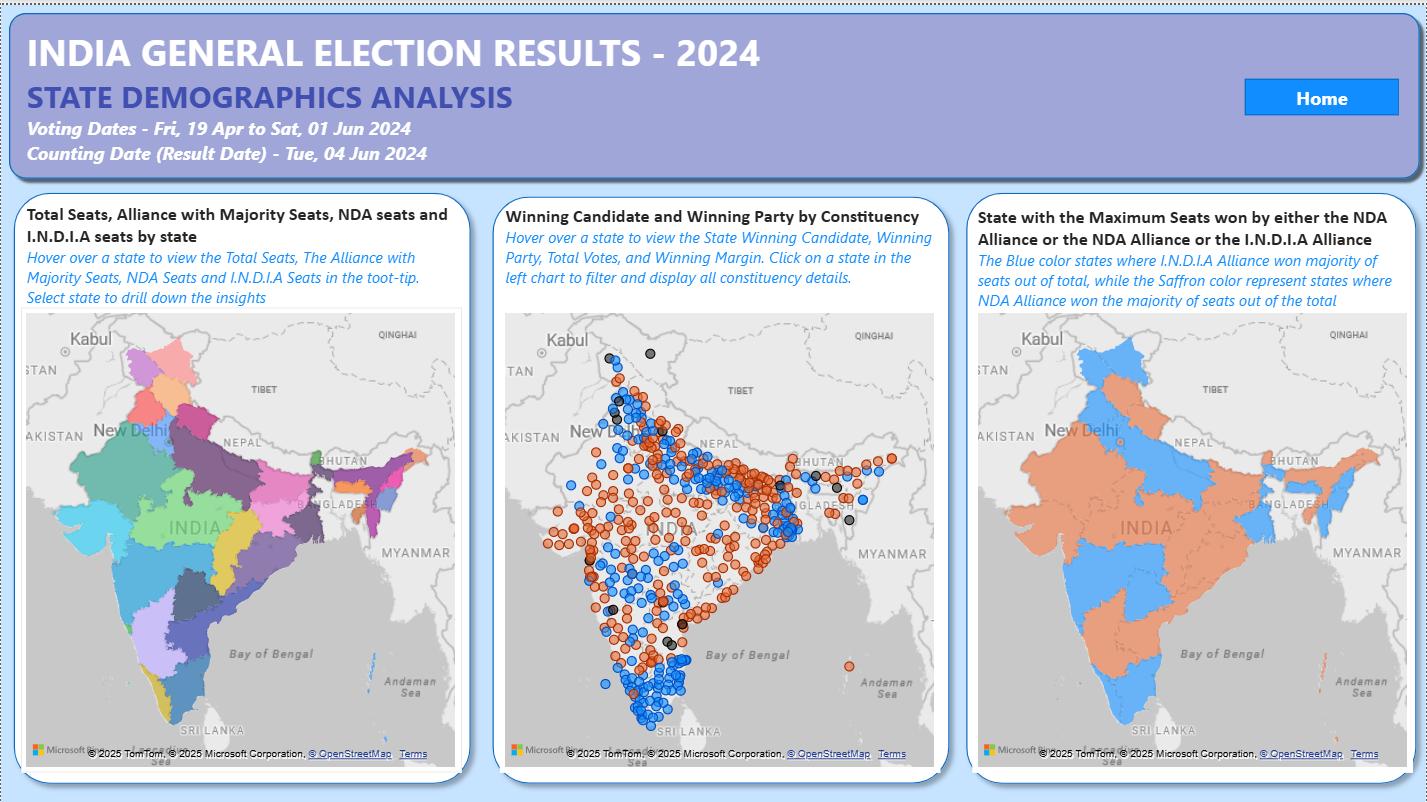

The dashboard page shown, as its layout file describes it:
{"tool":"powerbi","page":{"name":"STATE DEMOGRAPHICS ANALYSIS","canvas":[1250,700],"ordinal":2},"visuals":[{"type":"shape","box":[0,0,1250.7,159.3],"z":0},{"type":"textbox","box":[17.8,14.3,700.2,145],"z":1000},{"type":"shape","box":[2.4,155.7,418.5,536.2],"z":2000},{"type":"shape","box":[422,159.3,418.5,532.6],"z":3000},{"type":"shape","box":[837,155.7,412.5,536.2],"z":4000},{"type":"textbox","box":[17.8,168.8,386.4,120.1],"z":5000},{"type":"filledMap","fields":{"Category":["states.State"],"Series":["states.State"]},"box":[17.8,265.1,386.4,407.8],"z":6000},{"type":"textbox","box":[437.5,170,386.4,120.1],"z":7000},{"type":"map","fields":{"Category":["states.State","constituencywise_results.Constituency Name"],"Series":["constituencywise_results.Party Alliance"]},"box":[437.5,265.1,386.4,407.8],"z":8000},{"type":"textbox","box":[851.2,171.2,386.4,120.1],"z":9000},{"type":"filledMap","fields":{"Category":["states.State"],"Series":["states.Winning Alliance Plus"]},"box":[851.2,265.1,386.4,407.8],"z":10000},{"type":"shape","box":[1090.2,64.2,135.5,32.1],"z":11000}]}

Visuals, with their boxes in screenshot pixels (x1, y1, x2, y2), scaled from the page's 1250x700 canvas onto the 1427x802 screenshot:
shape: [x1=0, y1=0, x2=1426, y2=183]
textbox: [x1=20, y1=16, x2=820, y2=183]
shape: [x1=3, y1=178, x2=480, y2=793]
shape: [x1=482, y1=183, x2=960, y2=793]
shape: [x1=956, y1=178, x2=1426, y2=793]
textbox: [x1=20, y1=193, x2=461, y2=331]
filledMap - states.State x states.State: [x1=20, y1=304, x2=461, y2=771]
textbox: [x1=499, y1=195, x2=941, y2=332]
map - states.State x constituencywise_results.Constituency Name: [x1=499, y1=304, x2=941, y2=771]
textbox: [x1=972, y1=196, x2=1413, y2=334]
filledMap - states.State x states.Winning Alliance Plus: [x1=972, y1=304, x2=1413, y2=771]
shape: [x1=1245, y1=74, x2=1399, y2=110]
